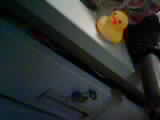duck: (90, 11, 142, 46)
